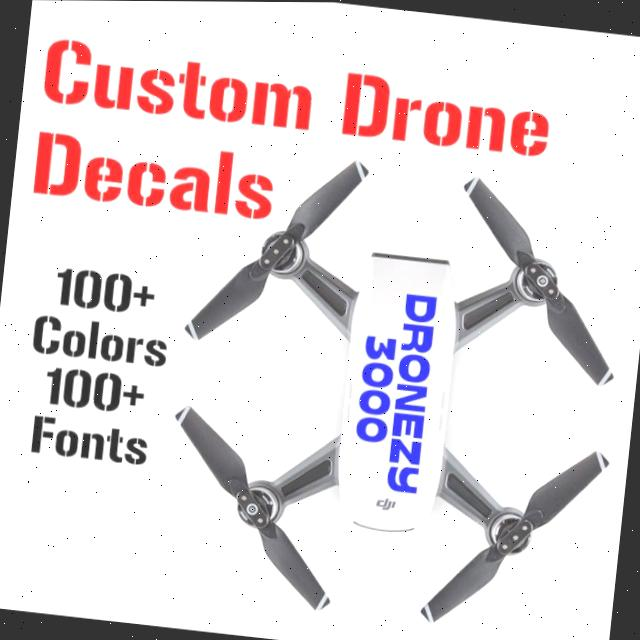drone: (139, 124, 640, 640)
